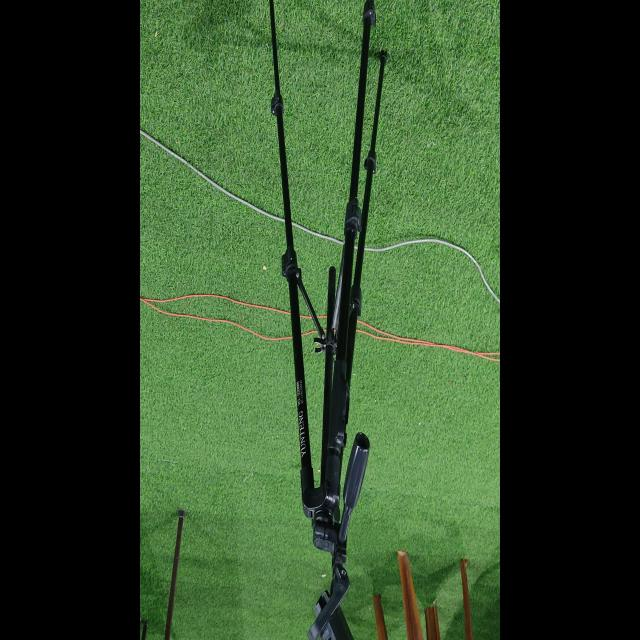Camer Stand: (267, 1, 388, 636)
